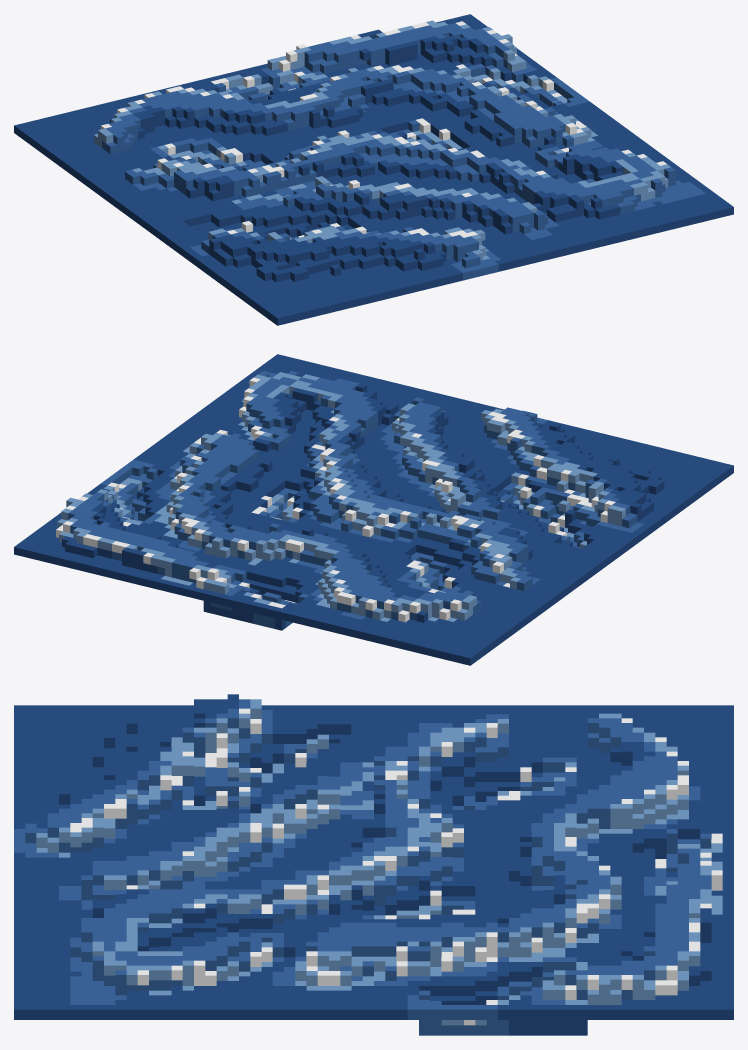
File: water.gltf
3 views of the same model, one above another, from view 1: azimuth 30°, elevation 25°; view 2: azimuth 150°, elevation 25°; view 3: azimuth 270°, elevation 25° (orthographic). The views are drawn at different scales.
Visible parts, largest first — view 1: sea; view 2: sea; view 3: sea.
Boxes of the visible parts, left/top/right/bottom form: sea: left=14, top=14, right=733, bottom=325; sea: left=14, top=354, right=733, bottom=665; sea: left=14, top=694, right=733, bottom=1035.
Size of the model in its own units: 64 by 5 by 64.
1 material, 1 textured.
